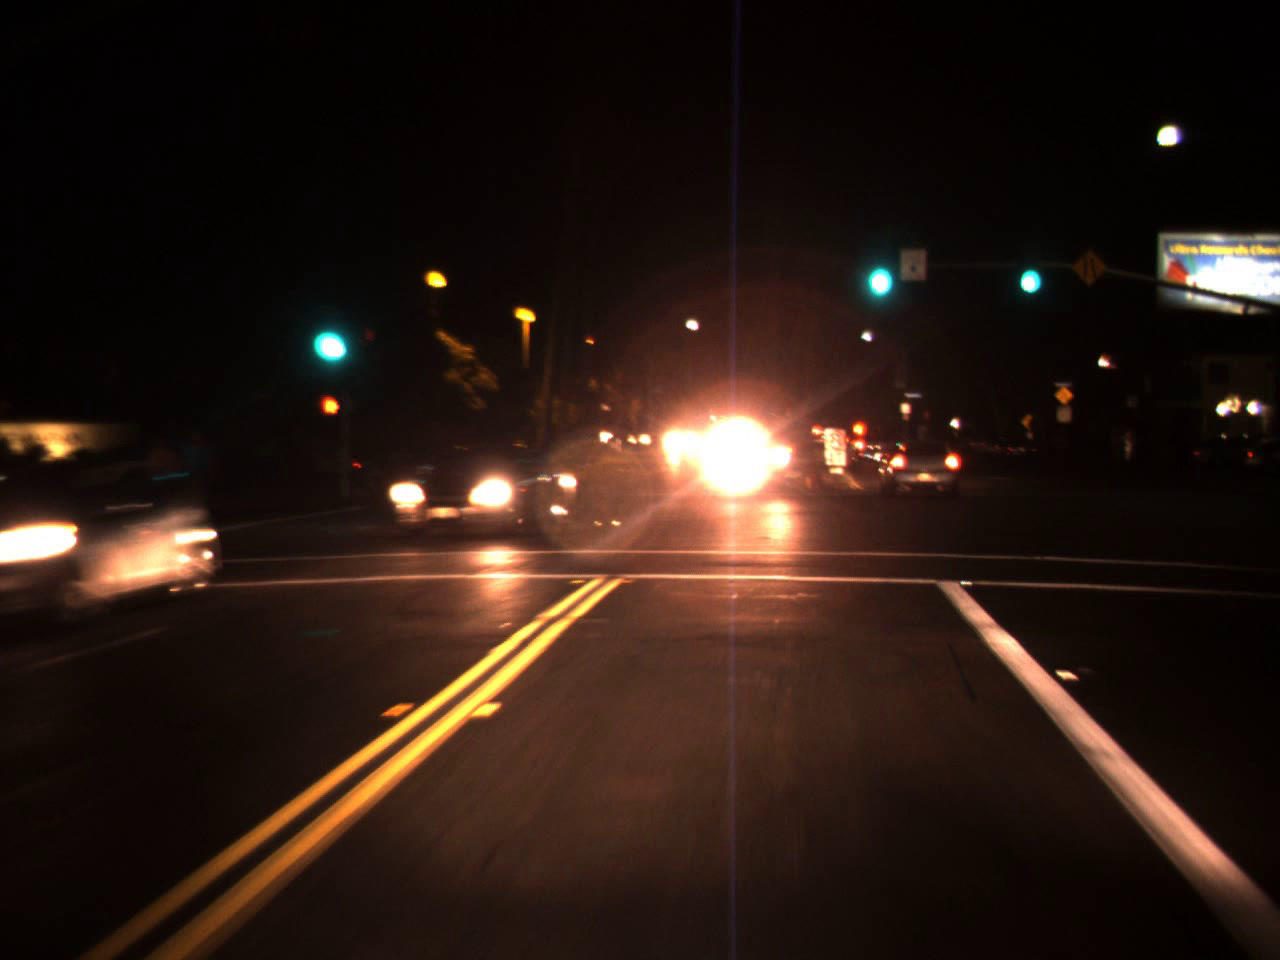go: (304, 292, 354, 373), (857, 230, 898, 308), (1013, 239, 1045, 302)
